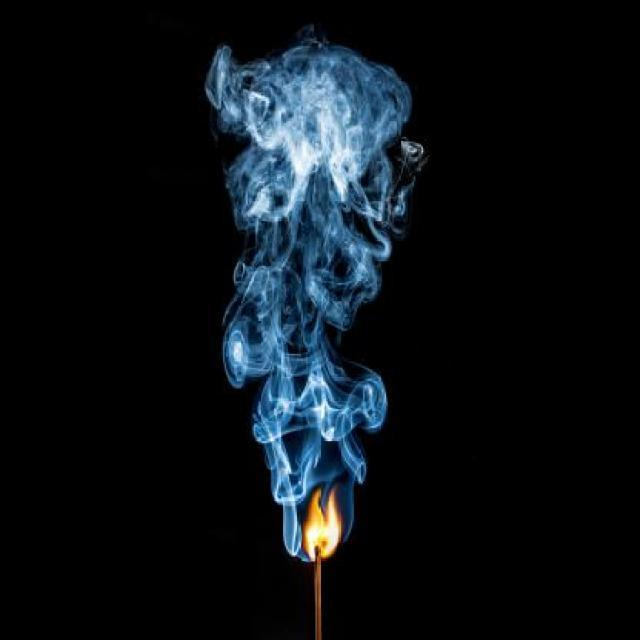Fire: (287, 493, 345, 572)
Smoke: (192, 7, 425, 552)
